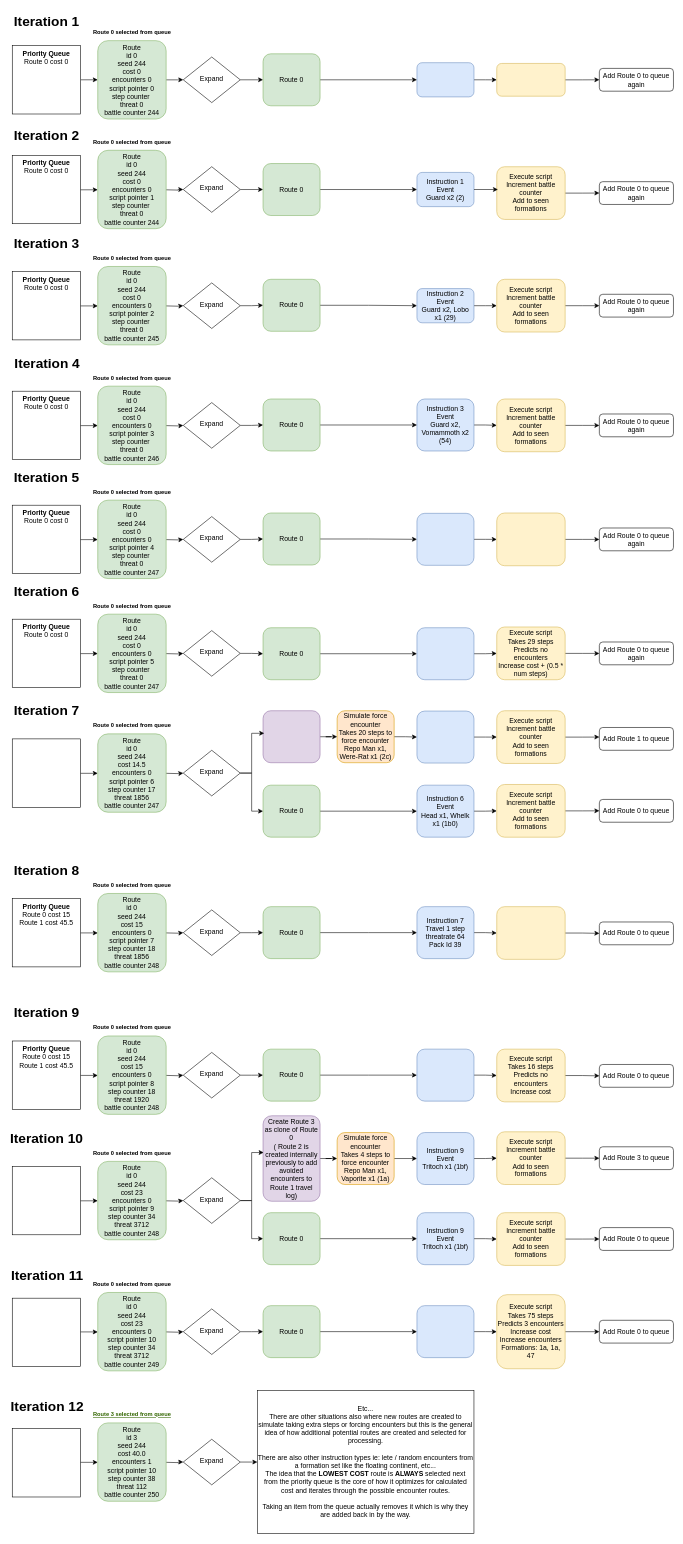
Image size: 683x1544. Some labels were removed from this diagram. Here are the shapes that lost their labels. From the top down, the box of each, then its label:
(416, 62, 474, 97): Instruction 0 Set weight value 1.0
(496, 63, 565, 96): Execute script Set route weight 1.0 No cost
(416, 513, 474, 565): Instruction 4 XP restriction value 0
(496, 512, 565, 566): Execute script Set xp restriction in route to 0
(416, 627, 474, 680): Instruction 5 Travel 29 steps threatrate 64 Pack Id 39
(262, 710, 320, 763): Create Route 1 as clone of Route 0
(416, 711, 474, 763): Instruction 6 Event Head x, Whelk x1 (1b0)
(12, 738, 81, 807): Priority Queue Route 0 cost 14.5
(496, 906, 565, 959): Execute script Takes 1 step Predicts no encounters Increase cost + 0.5
(416, 1049, 474, 1101): Instruction 8 Travel 16 steps threatrate 112 Pack Id 3a
(12, 1166, 81, 1235): Priority Queue Route 0 cost 23 Route 1 cost 45.5
(12, 1298, 81, 1367): Priority Queue Route 0 cost 23 Route 1 cost 45.5 Route 3 cost 40.0
(416, 1305, 474, 1358): Instruction 10 Travel 75 steps Pack Id 3a
(12, 1428, 81, 1497): Priority Queue Route 0 cost 108.6 Route 1 cost 45.5 Route 3 cost 40.0
